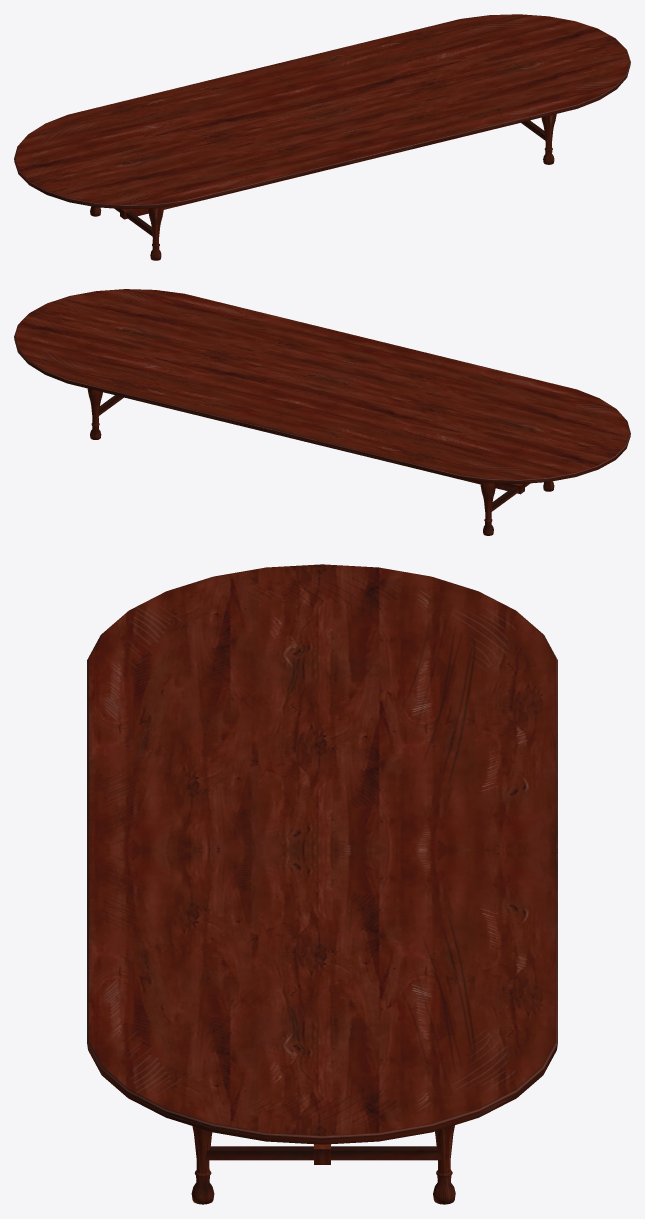
Rendered from dining_table.fbx.
The picture shows the model from 3 angles, top to bottom: view 1: azimuth 30°, elevation 25°; view 2: azimuth 150°, elevation 25°; view 3: azimuth 270°, elevation 25°; orthographic projection. The views are drawn at different scales.
Parts seen in each view (by area): view 1: polySurface1631; view 2: polySurface1631; view 3: polySurface1631.
Part boxes in pixels (left/top/right/bottom): polySurface1631: left=14, top=14, right=630, bottom=260; polySurface1631: left=14, top=289, right=630, bottom=535; polySurface1631: left=87, top=564, right=557, bottom=1204.
Bounding box in the file's own units: 654 × 84.29 × 227.
